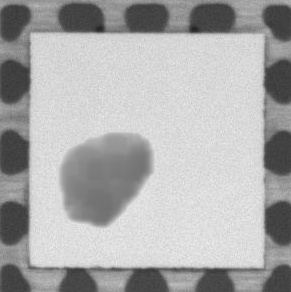DIE_INK: (56, 132, 154, 227)
